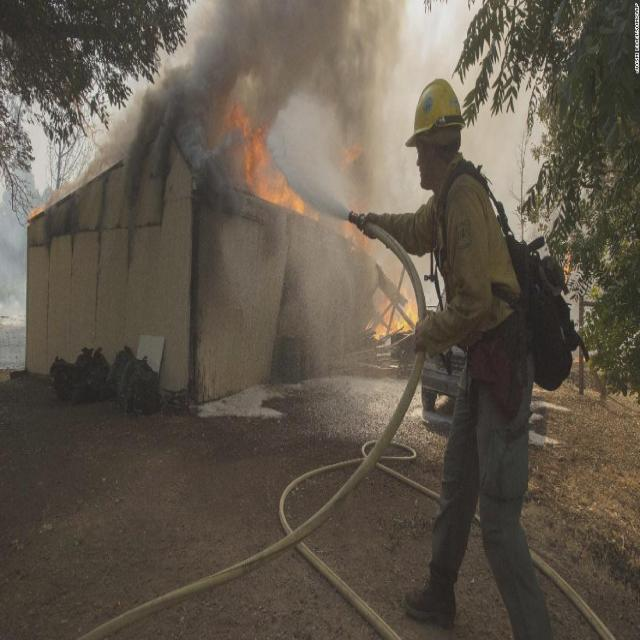smoke: (193, 3, 401, 87)
